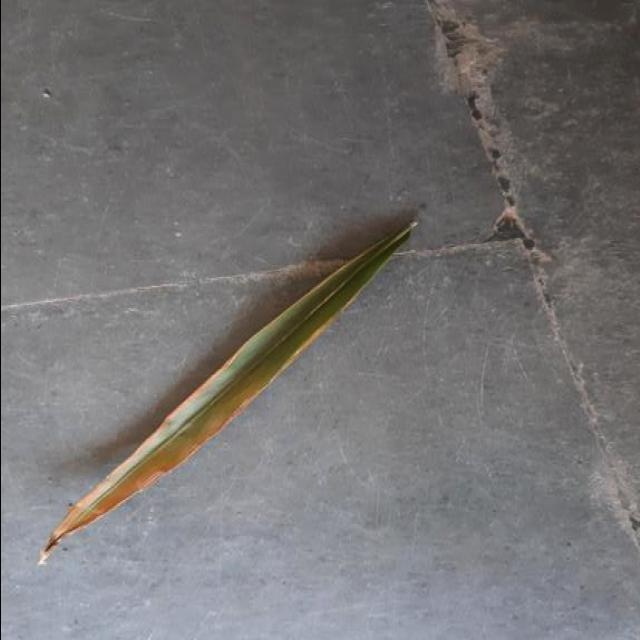leaf: (37, 217, 419, 566)
